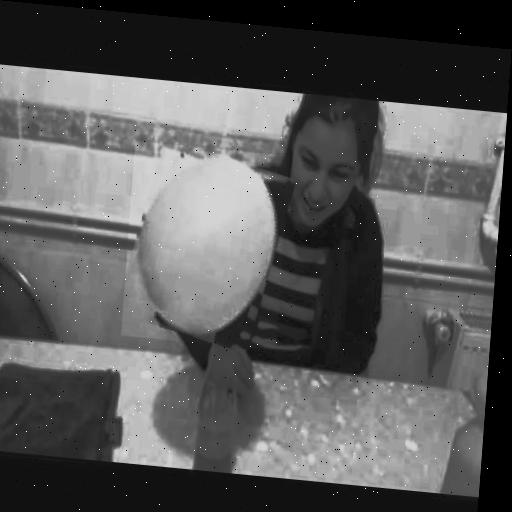balloon: (121, 141, 290, 351)
